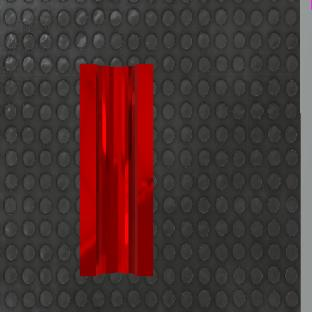objects: (78, 61, 155, 281)
